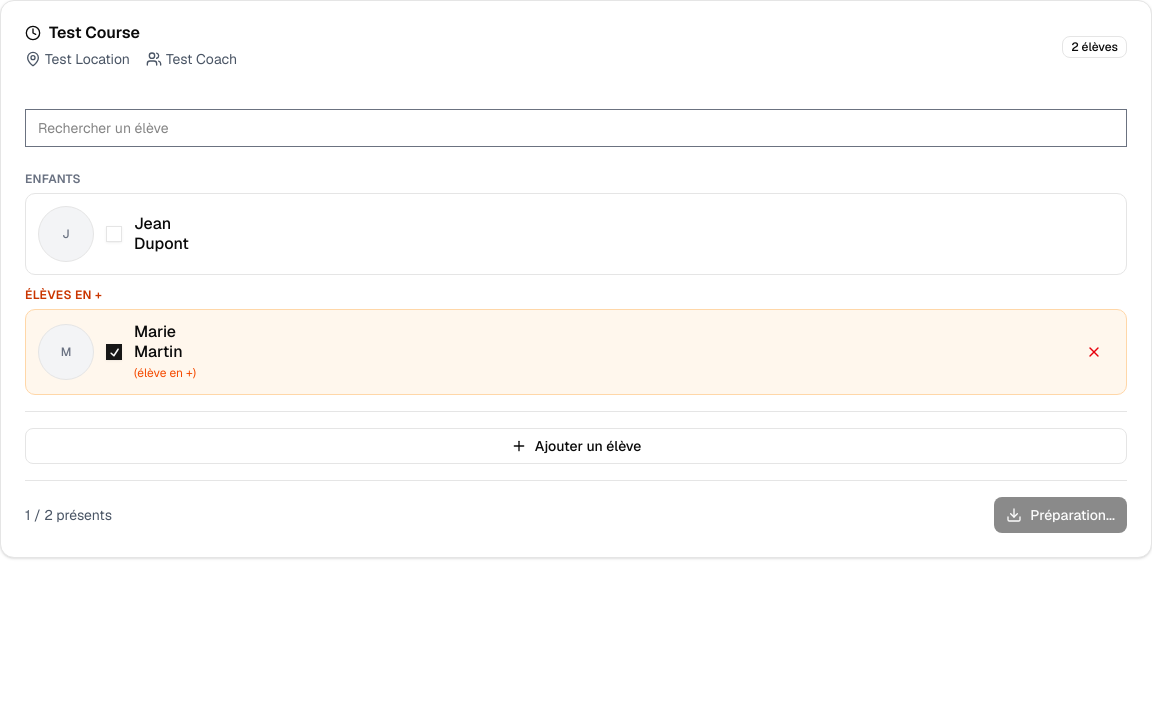
Scenario: CourseCard › should handle adding temporary student
The width and height of the screenshot is (1152, 720).
Click the button "Ajouter un élève" at (576, 446), box [25,428,1127,464]
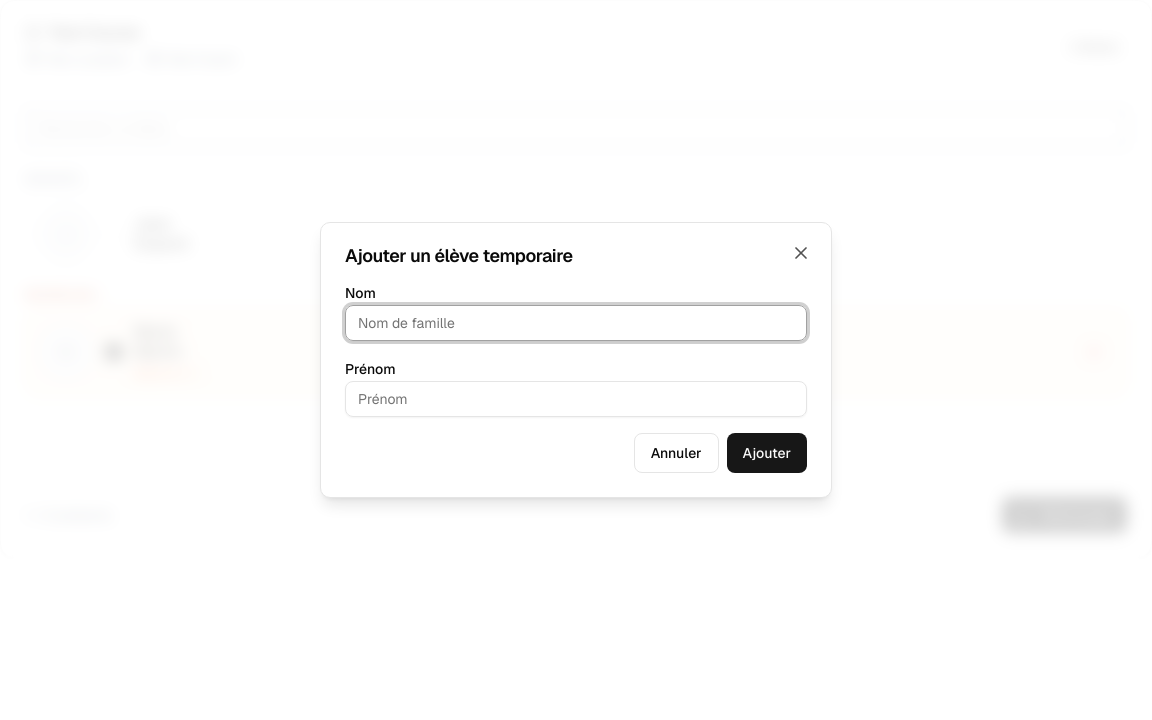
Expected: the heading "Ajouter un élève temporaire" is shown, [345,244,573,267]
